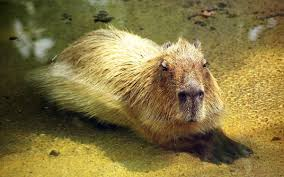capivara: (23, 26, 255, 164)
